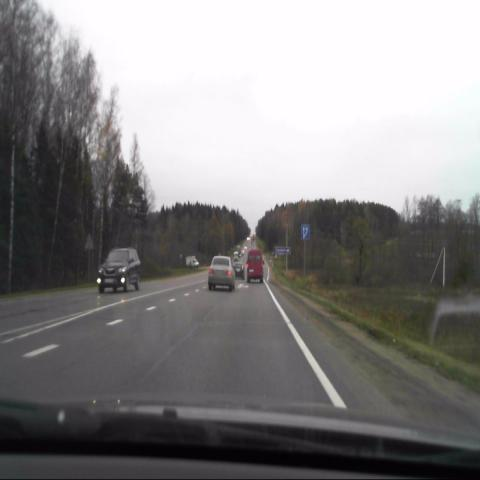5_15_3: (300, 224, 309, 239)
